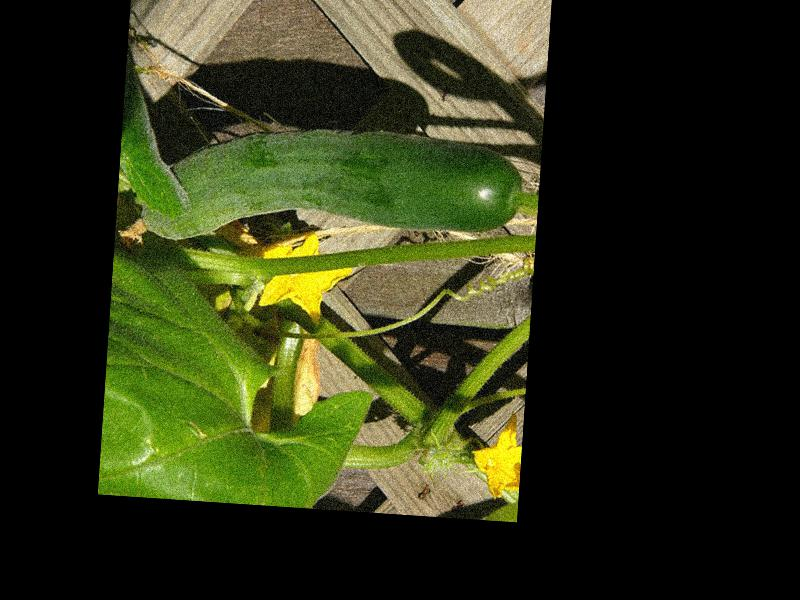Cucumber: (119, 113, 521, 262)
